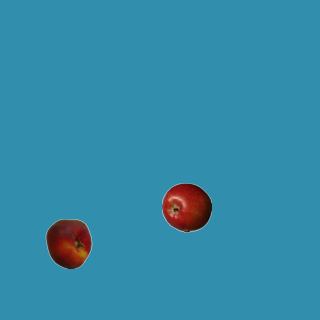Apple Braeburn: (161, 182, 211, 232)
Nectarine Flat: (43, 218, 93, 268)
